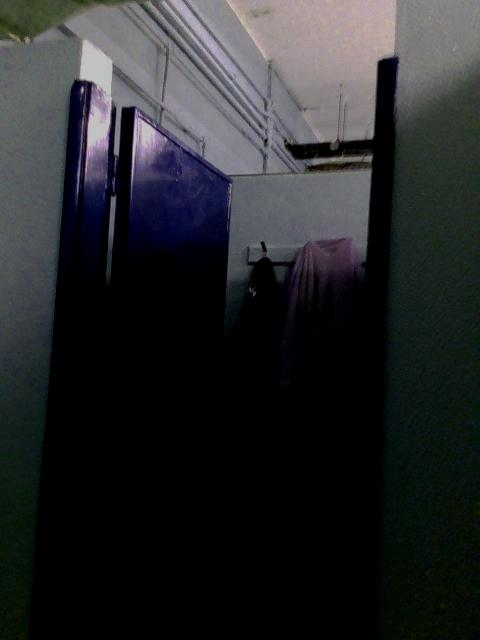open_door: (27, 49, 399, 638)
